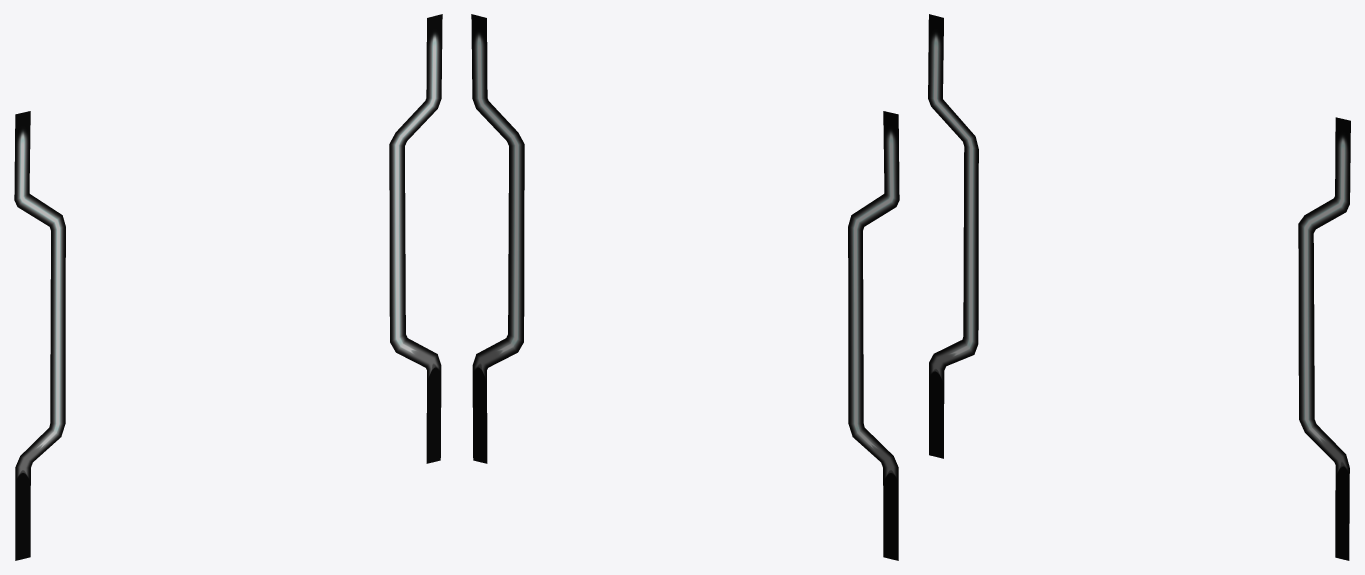
The model's file is FB4_jixienengliangtiao.FBX.
3 renders of one model, left to right at view 1: azimuth 30°, elevation 25°; view 2: azimuth 150°, elevation 25°; view 3: azimuth 330°, elevation 25°, orthographic.
Parts seen in each view (by area): view 1: jixienengliangtiao; view 2: jixienengliangtiao; view 3: jixienengliangtiao.
Boxes of the visible parts, <box> form: jixienengliangtiao: <box>14,14,442,560</box>; jixienengliangtiao: <box>471,14,899,560</box>; jixienengliangtiao: <box>928,14,1350,560</box>.
Size of the model in its own units: 196 by 197 by 3.3e-05.
